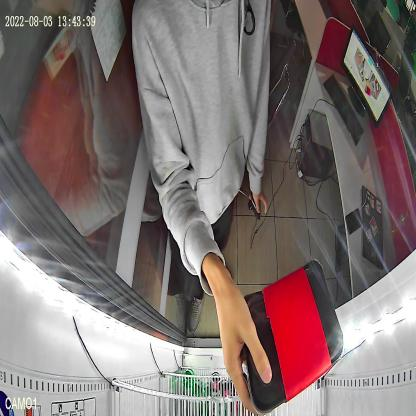red: (239, 259, 344, 413)
